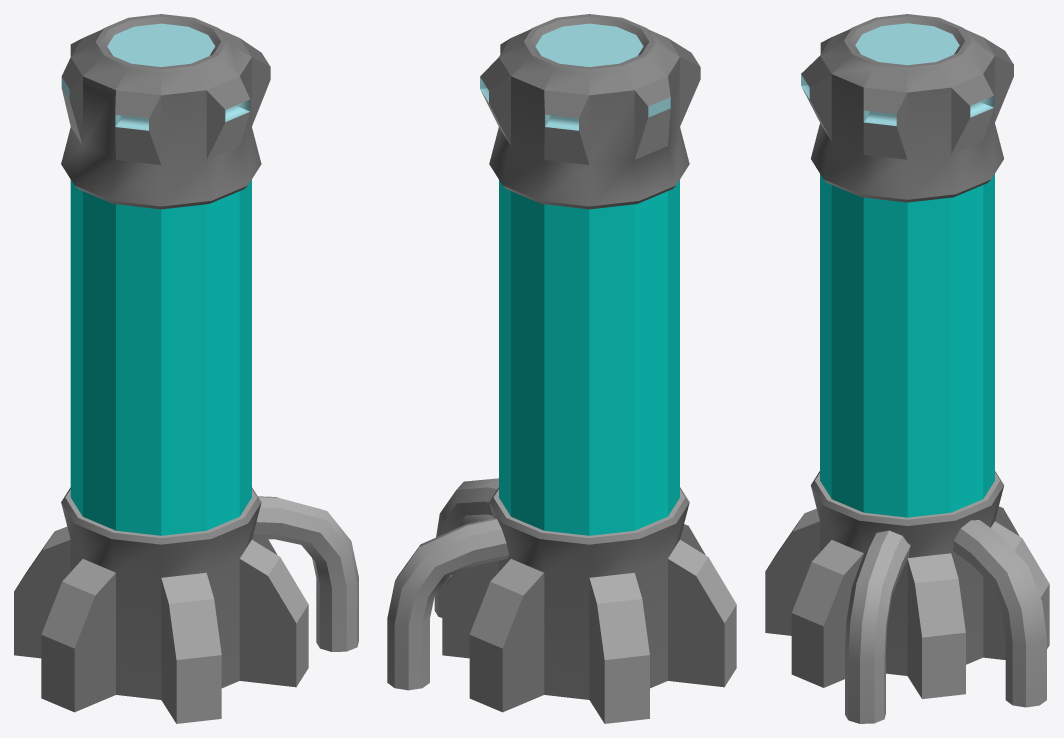
The model's file is ClearTank.fbx.
3 renders of one model, left to right at view 1: azimuth 30°, elevation 25°; view 2: azimuth 150°, elevation 25°; view 3: azimuth 270°, elevation 25°, orthographic. The views are drawn at different scales.
Parts seen in each view (by area): view 1: Clear_Tank; view 2: Clear_Tank; view 3: Clear_Tank.
Boxes of the visible parts, <box> form: Clear_Tank: <box>14,14,358,723</box>; Clear_Tank: <box>387,14,736,723</box>; Clear_Tank: <box>765,14,1049,723</box>.
Bounding box in the file's own units: 21.36 × 42.34 × 18.13.
